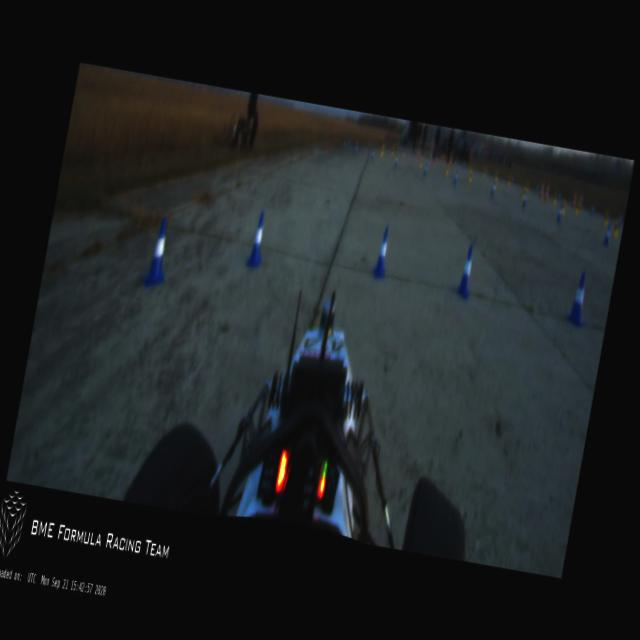blue_cone: (142, 216, 174, 286), (565, 270, 590, 326), (246, 212, 268, 268), (456, 243, 478, 298), (372, 226, 392, 278)
